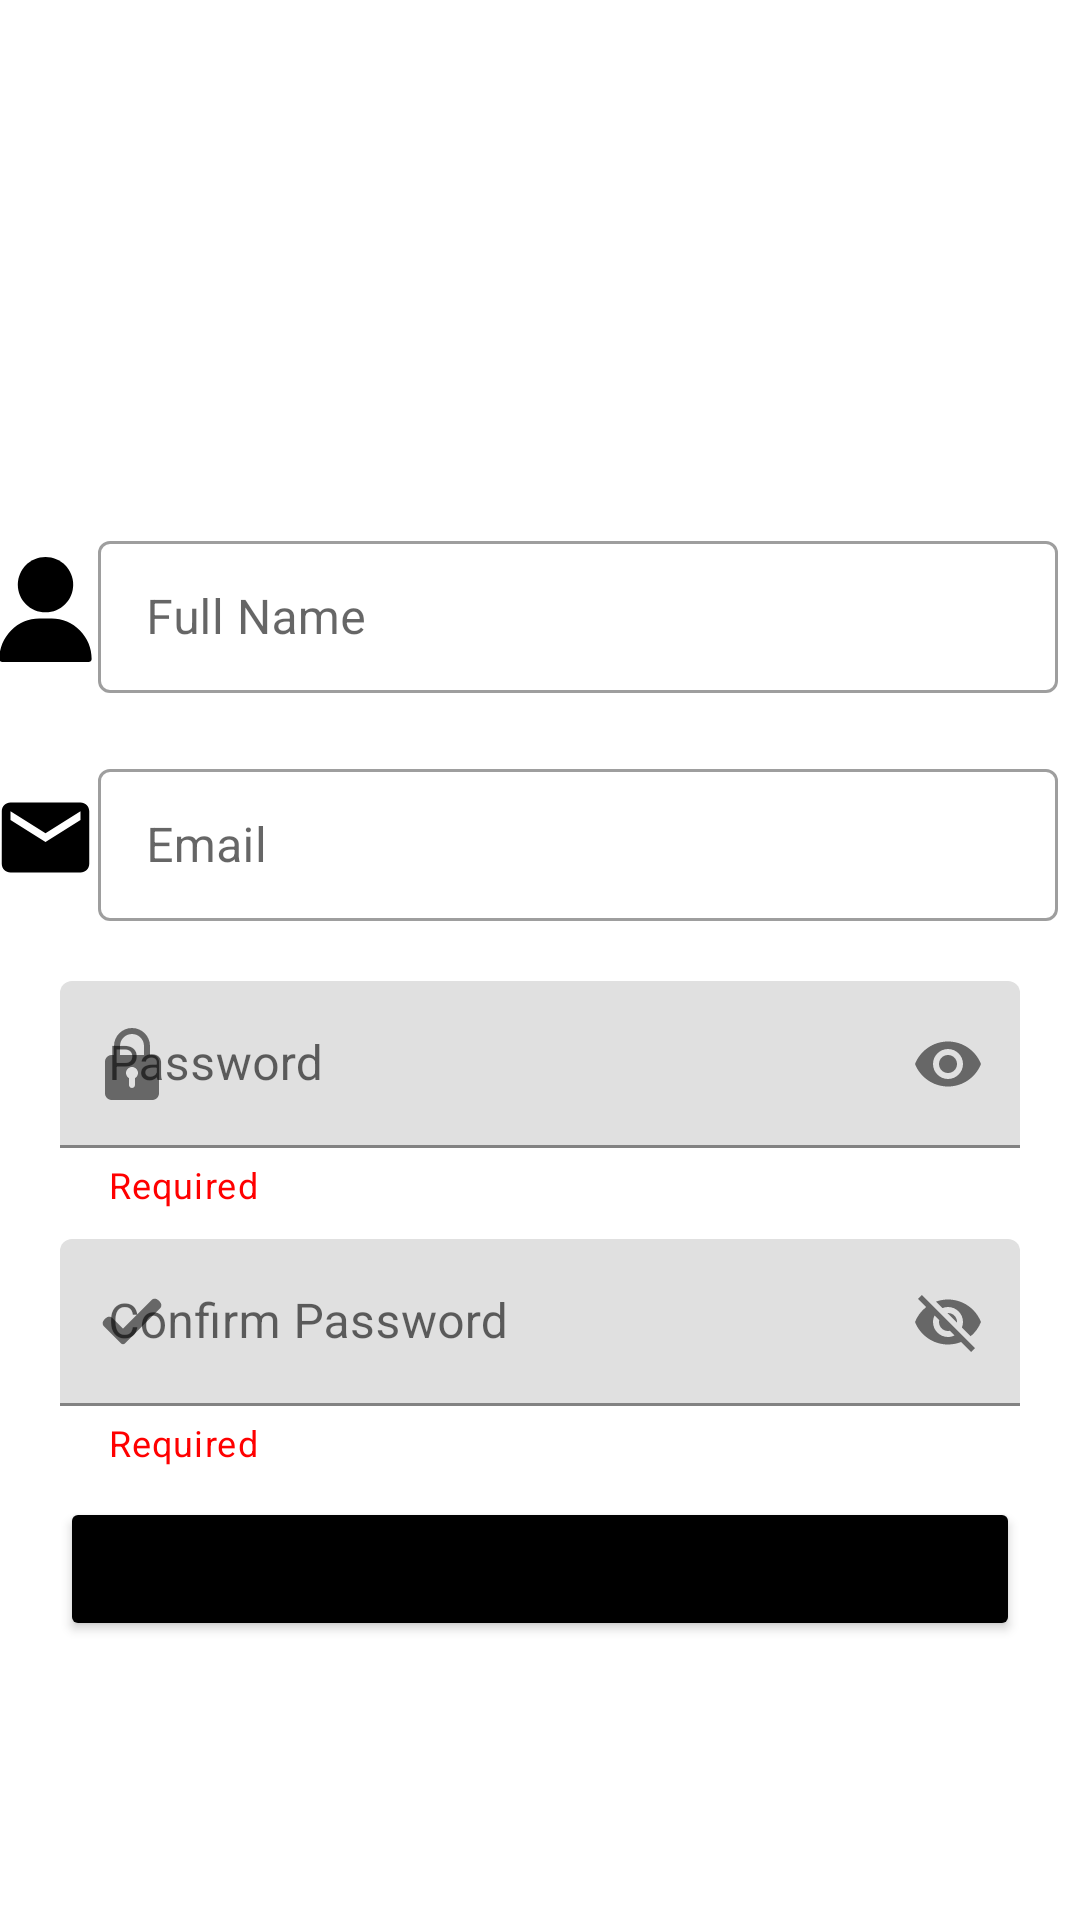

Where to tap for icons on this 1080×1920 app screen, as [x,y]:
user: [46,609]
